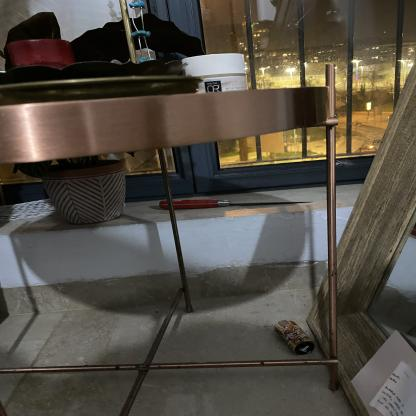Knife: (158, 198, 314, 211)
